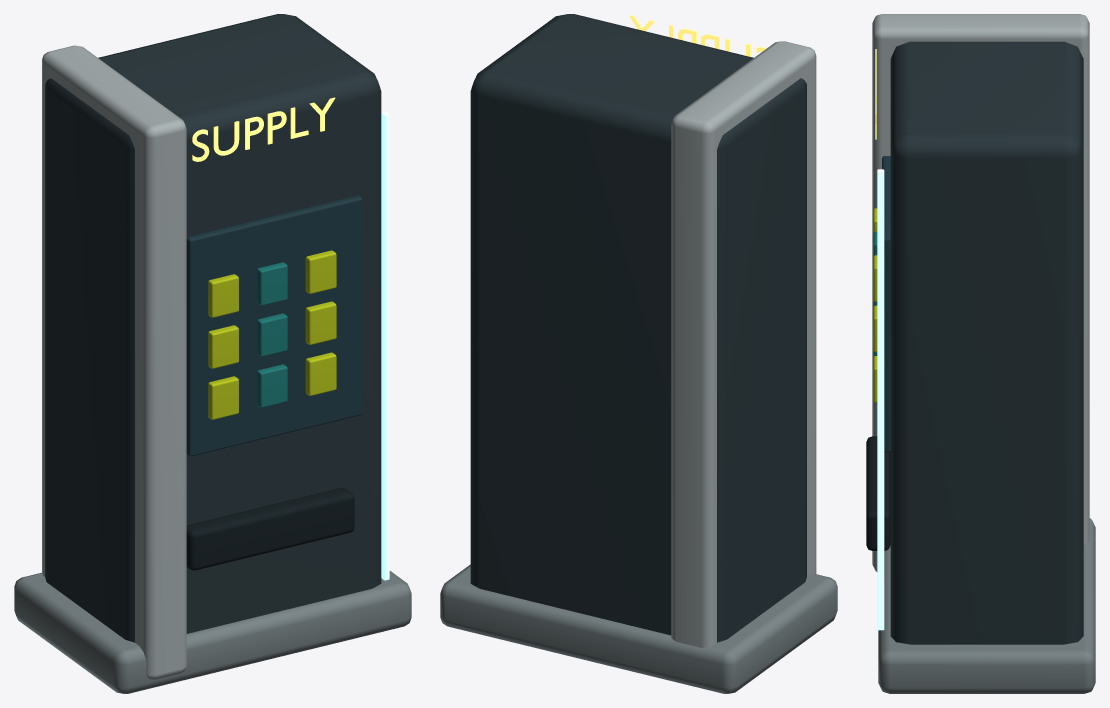
File: supply_terminal.glb
3 views of the same model, side by side, from view 1: azimuth 30°, elevation 25°; view 2: azimuth 150°, elevation 25°; view 3: azimuth 270°, elevation 25° (orthographic).
Visible parts, largest first — view 1: supply_terminal; view 2: supply_terminal; view 3: supply_terminal.
Part boxes in pixels (x1=…): supply_terminal: x1=14, y1=14, x2=411, y2=693; supply_terminal: x1=440, y1=14, x2=837, y2=693; supply_terminal: x1=866, y1=14, x2=1095, y2=693.
Bounding box in the file's own units: 1.4 × 2.55 × 0.95.
